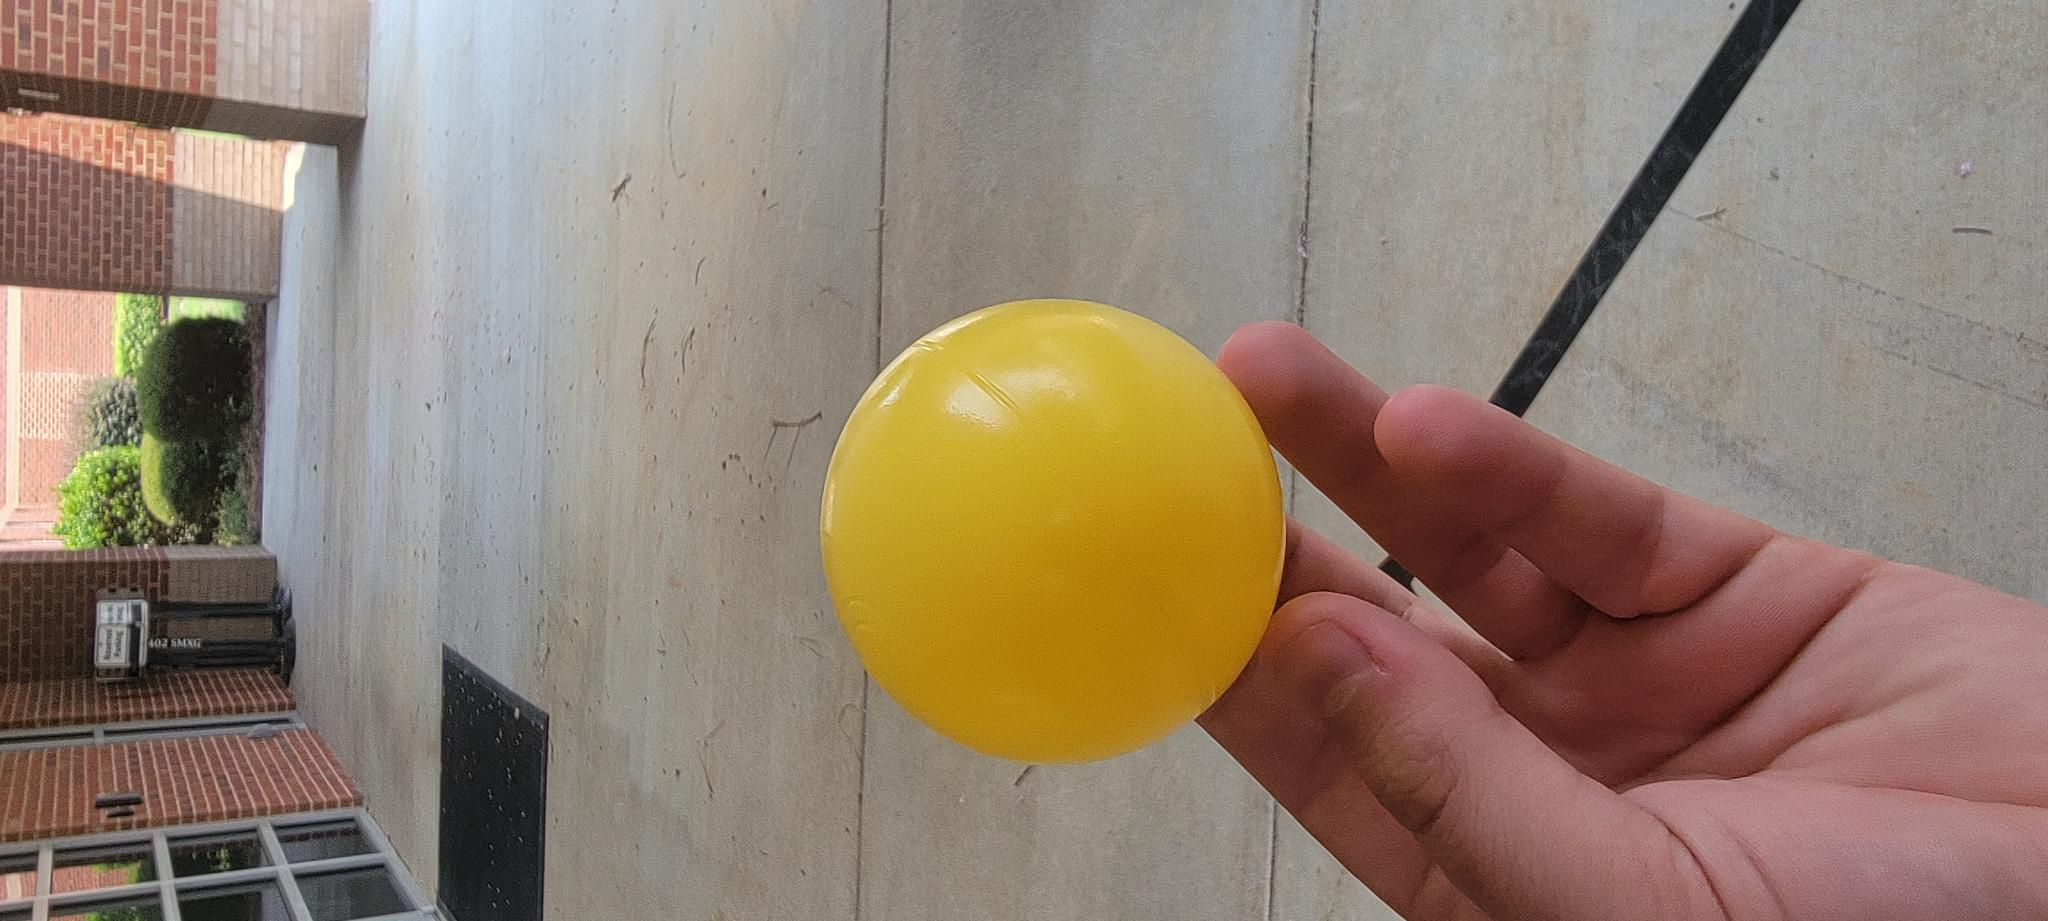Yellow-Ball: (162, 816, 623, 921)
